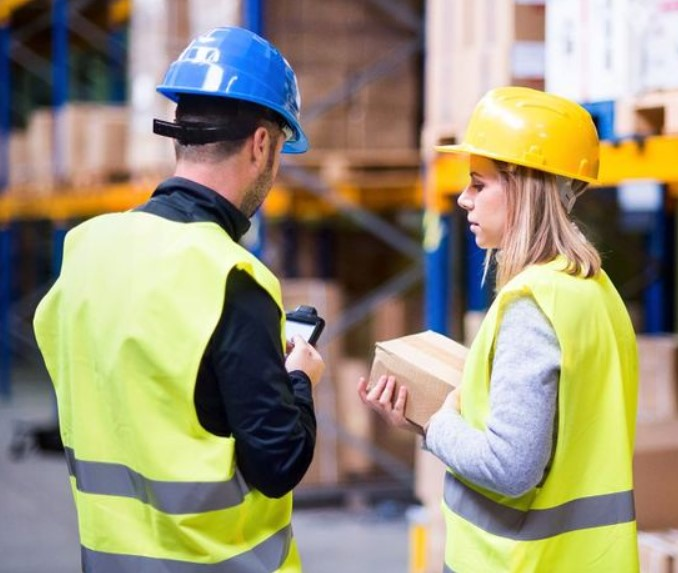worker: (57, 27, 306, 573), (446, 86, 637, 573)
